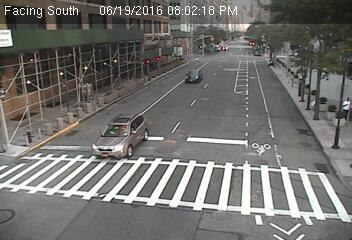neg: (26, 120, 42, 142)
pos: (338, 94, 351, 122)
